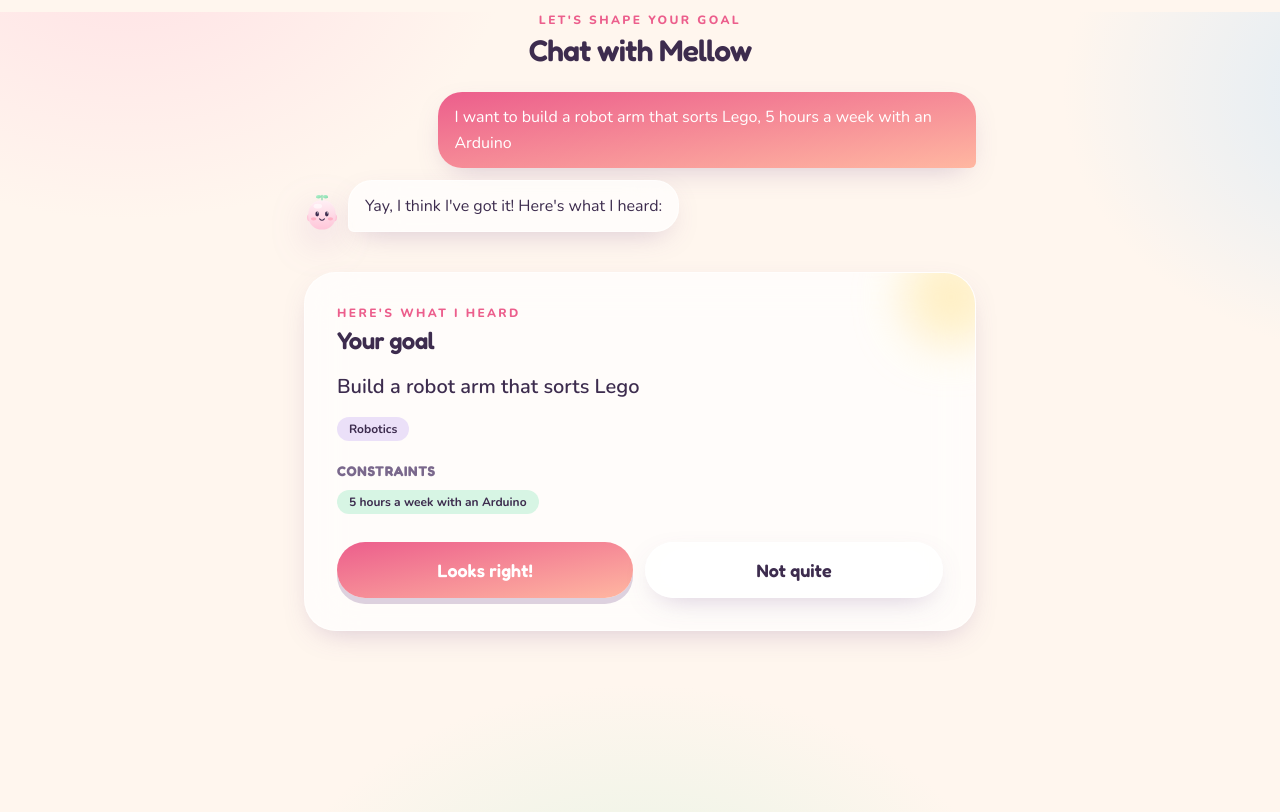
Test: GoalPage › reopens the conversation when the user says "Not quite"
What coordinates should you click on to do the following:
click the button "Not quite"
I would click on:
 (794, 570)
Its box is x1=645 y1=542 x2=943 y2=598.
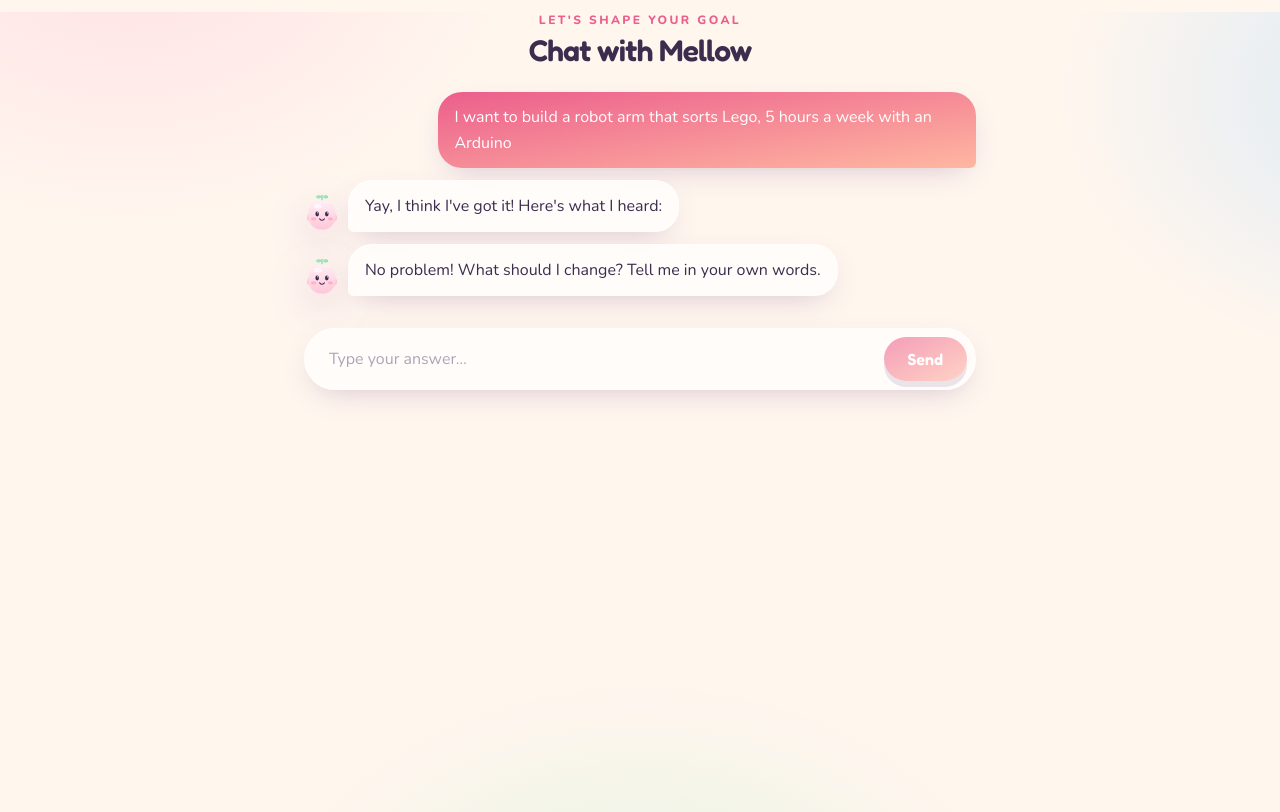
Expected: the button "Looks right" is gone
Expected: the text "No problem! What should I change? Tell me in your own words." is shown, x1=348 y1=244 x2=838 y2=296
Expected: the field labelled "Type your answer…" is shown, x1=313 y1=337 x2=876 y2=381
